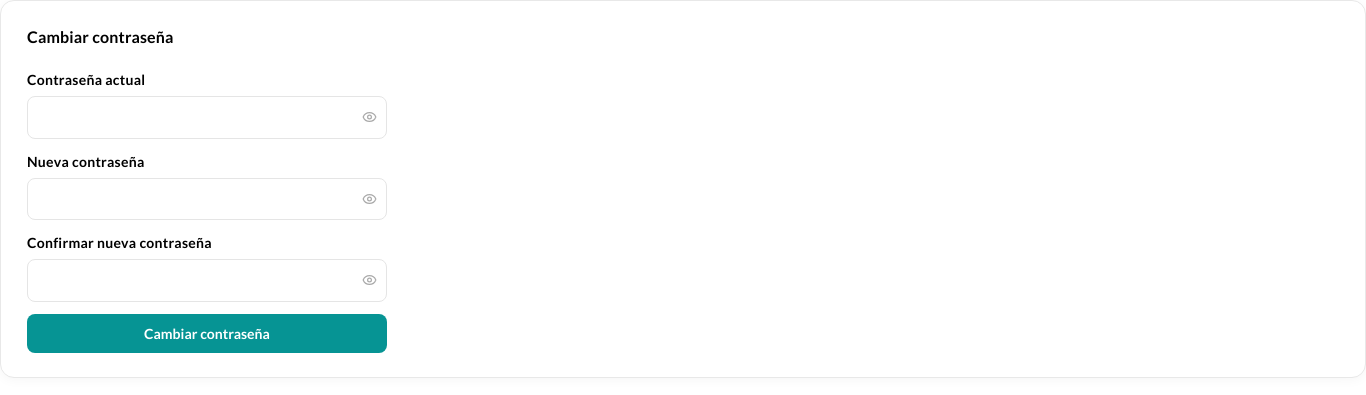
it: SecuritySection (cambiar contraseña del admin) › manda la contraseña actual junto con la nueva
Step 1. Type "ClaveVieja123" into the password field labelled "Contraseña actual" → point(207, 117), box [27,96,387,138]
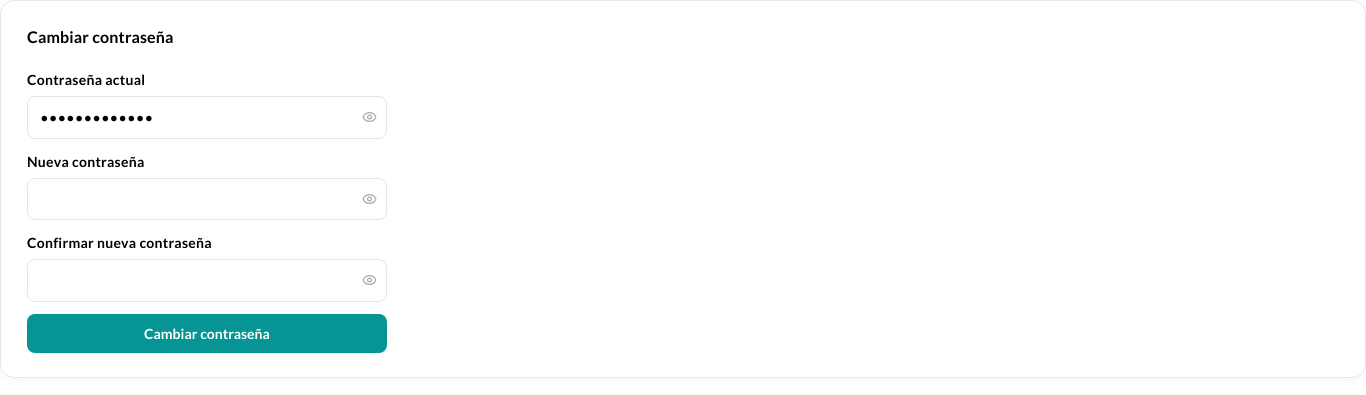
Step 2. Type "ClaveNueva123" into the password field labelled "Nueva contraseña" → point(207, 199), box [27,178,387,220]
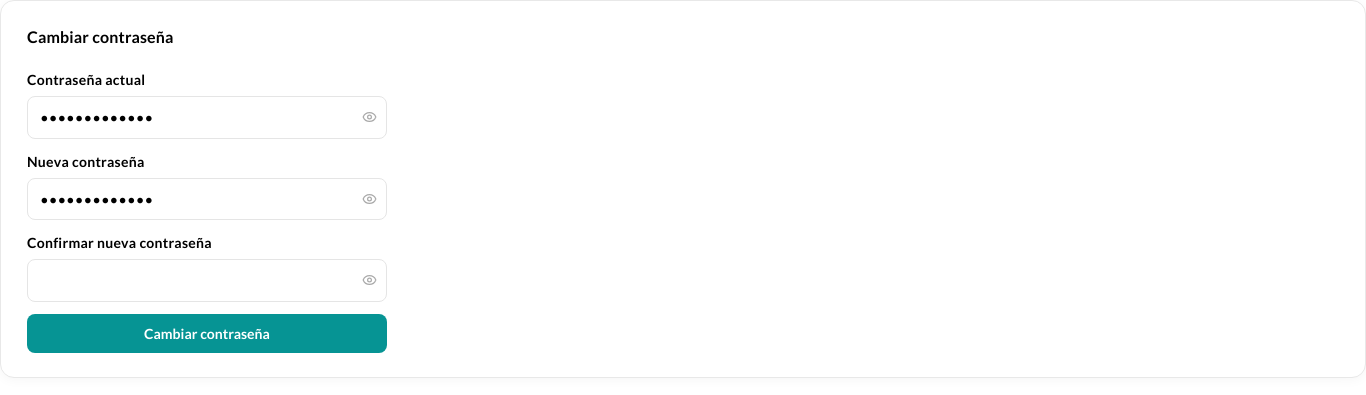
Step 3. Type "ClaveNueva123" into the password field labelled "Confirmar nueva contraseña" → point(207, 280), box [27,259,387,302]
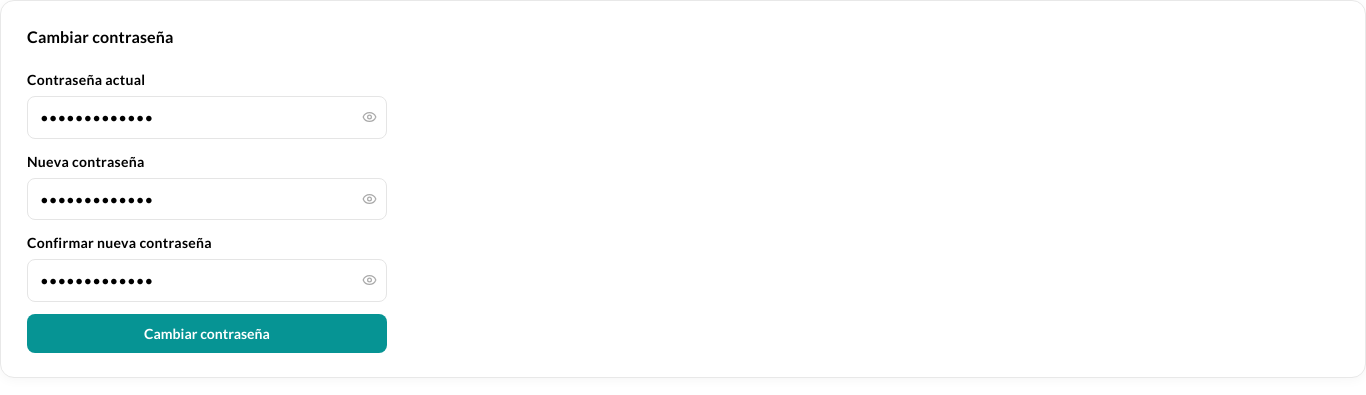
Step 4. Click the button "Cambiar contraseña" → point(207, 333), box [27,314,387,352]
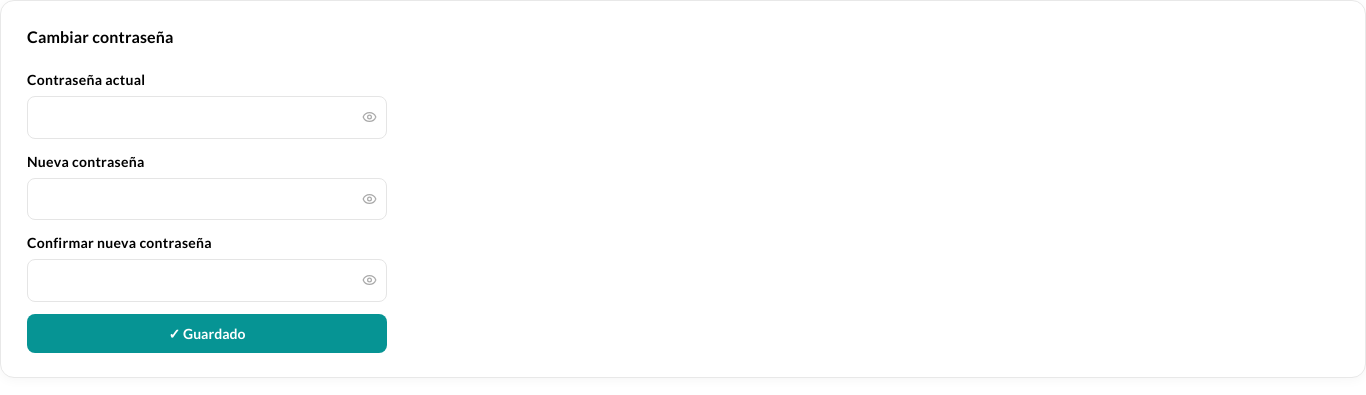
Check: the button "✓ Guardado" is shown, box [27,314,387,352]
